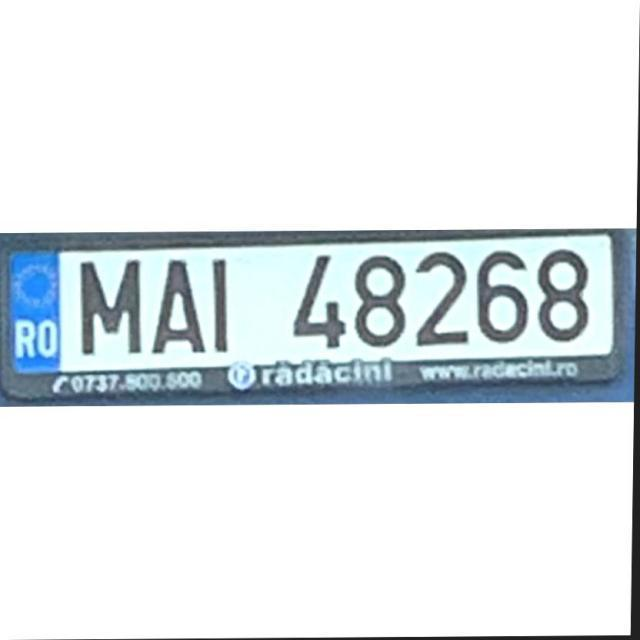license-plates: (9, 234, 621, 390)
